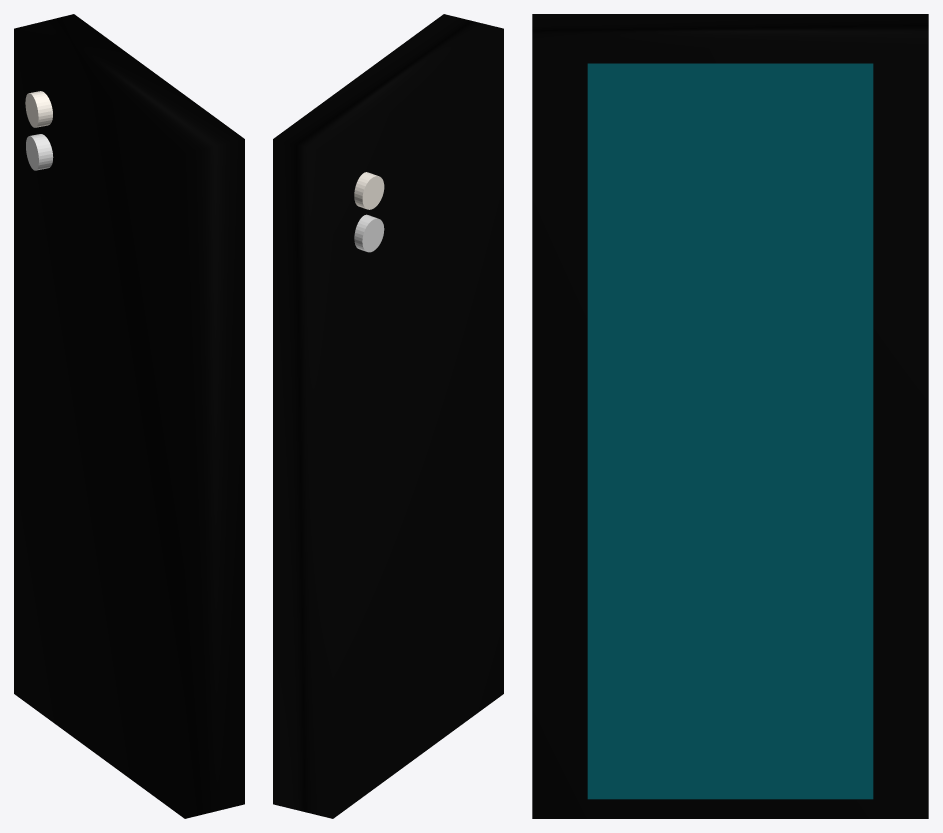
Rendered from celular.glb.
3 views of the same model, side by side, from view 1: azimuth 30°, elevation 25°; view 2: azimuth 150°, elevation 25°; view 3: azimuth 270°, elevation 25° (orthographic). The views are drawn at different scales.
Parts seen in each view (by area): view 1: Cube, Cylinder, Cylinder.001; view 2: Cube, Cylinder, Cylinder.001; view 3: Cube.001, Cube.
Boxes of the visible parts, bbox=[...] form: Cube: bbox=[14, 14, 244, 818]; Cylinder: bbox=[25, 91, 52, 127]; Cylinder.001: bbox=[26, 134, 53, 170]; Cube: bbox=[273, 14, 503, 818]; Cylinder: bbox=[354, 172, 384, 209]; Cylinder.001: bbox=[354, 214, 384, 252]; Cube.001: bbox=[587, 63, 873, 799]; Cube: bbox=[532, 14, 928, 818].
Size of the model in its own units: 0.9015 by 7.74 by 3.6.
